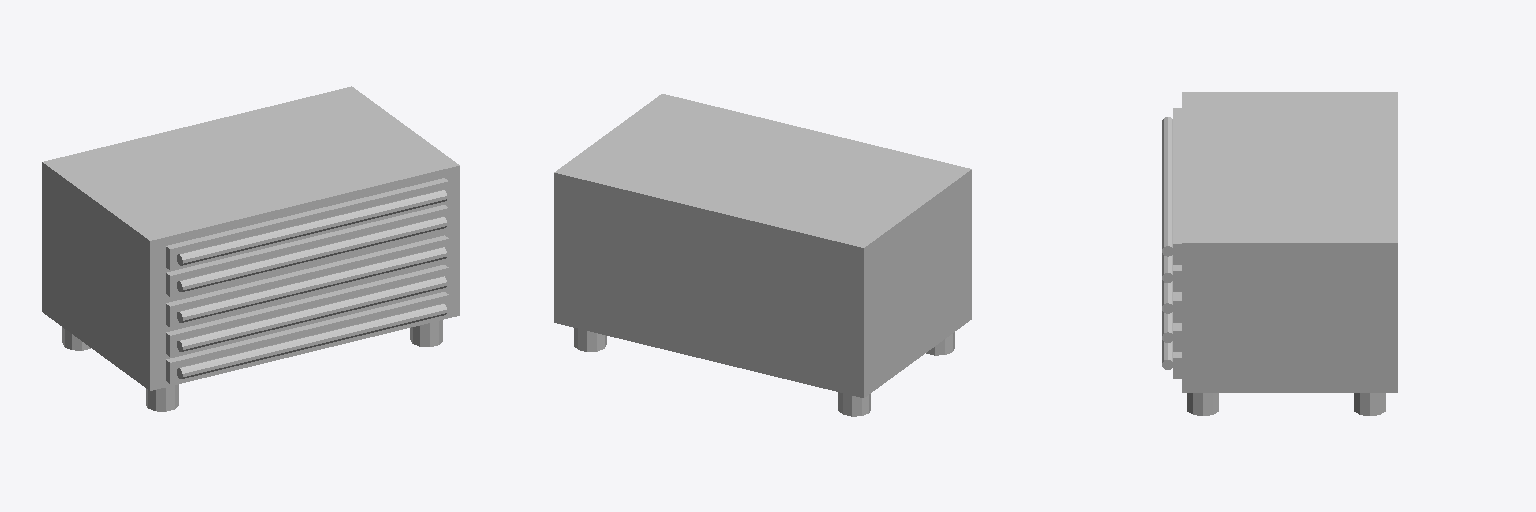
Rendered from tool_drawer.obj.
3 views of the same model, side by side, from view 1: azimuth 30°, elevation 25°; view 2: azimuth 150°, elevation 25°; view 3: azimuth 270°, elevation 25° (orthographic).
Parts seen in each view (by area): view 1: Tool_drawer1; view 2: Tool_drawer1; view 3: Tool_drawer1.
Part boxes in pixels (x1,y1,x2,y2): Tool_drawer1: (42, 86, 459, 411); Tool_drawer1: (554, 94, 971, 416); Tool_drawer1: (1162, 92, 1397, 415).
Bounding box in the file's own units: 16.56 × 9.06 × 10.9.